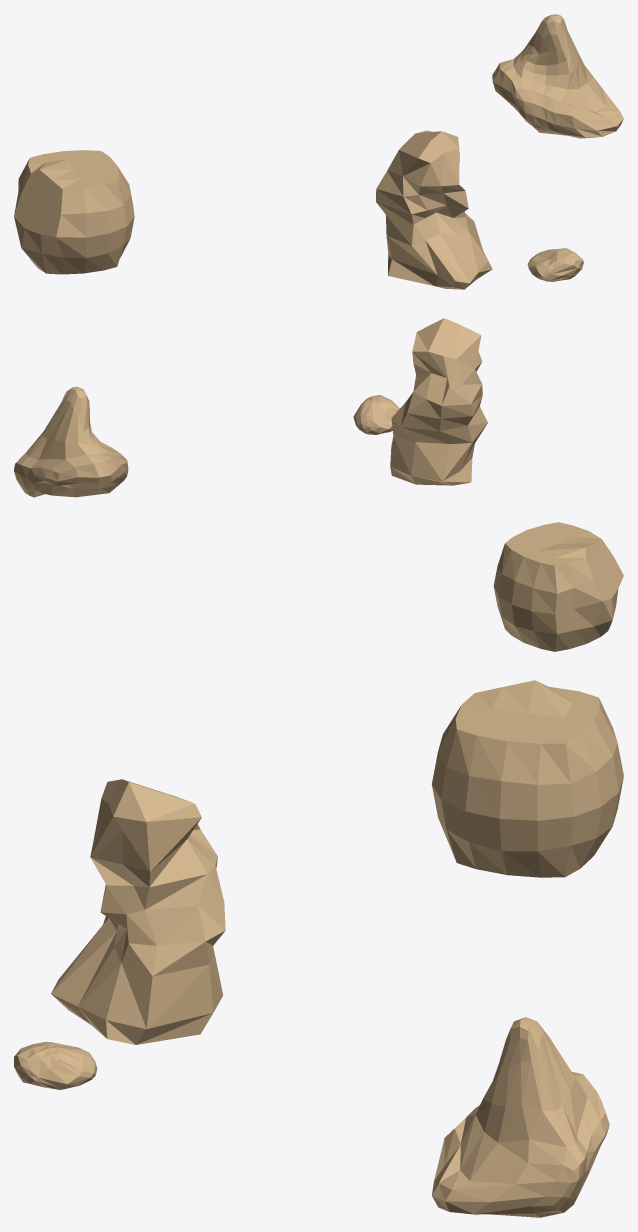
The model's file is desert-5-6.glb.
3 views of the same model, one above another, from view 1: azimuth 30°, elevation 25°; view 2: azimuth 150°, elevation 25°; view 3: azimuth 270°, elevation 25° (orthographic). The views are drawn at different scales.
Visible parts, largest first — view 1: desert-5-6; view 2: desert-5-6; view 3: desert-5-6.
Part boxes in pixels (x1=…): desert-5-6: x1=14, y1=14, x2=623, y2=289; desert-5-6: x1=14, y1=318, x2=623, y2=651; desert-5-6: x1=14, y1=680, x2=623, y2=1217.
Bounding box in the file's own units: 120 × 31.24 × 69.67.
